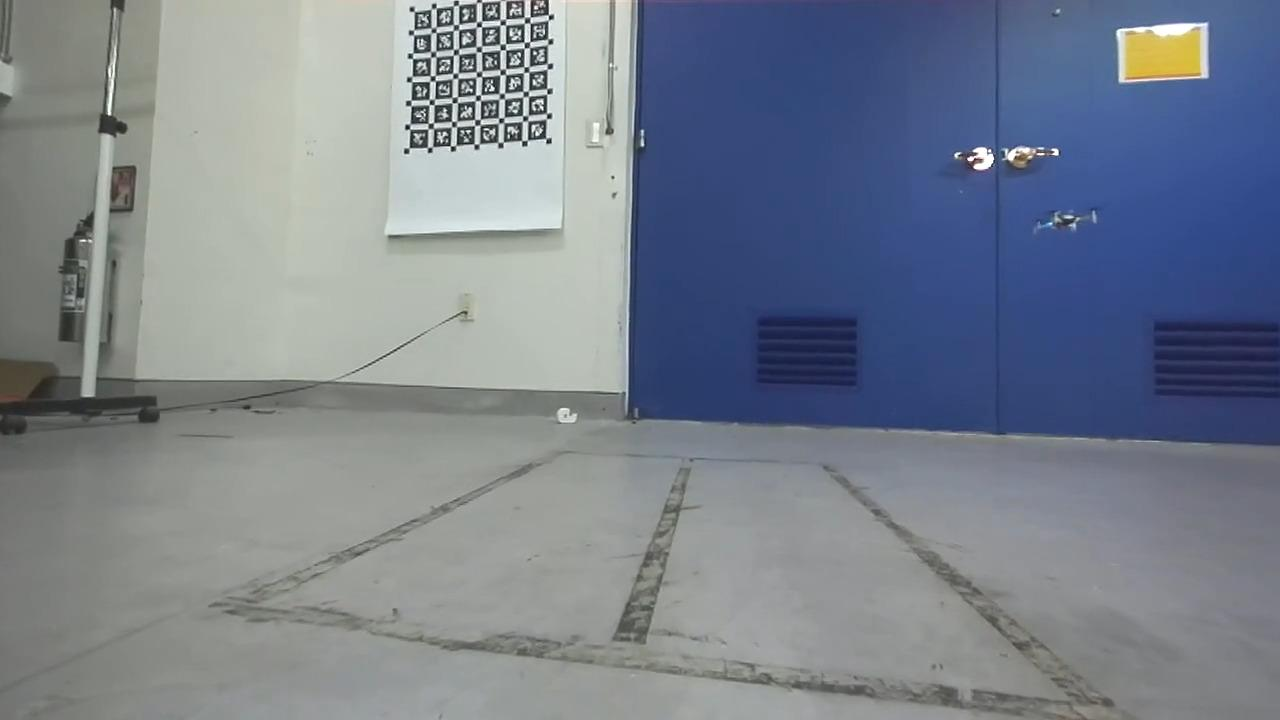crazyflie: (1023, 202, 1106, 239)
